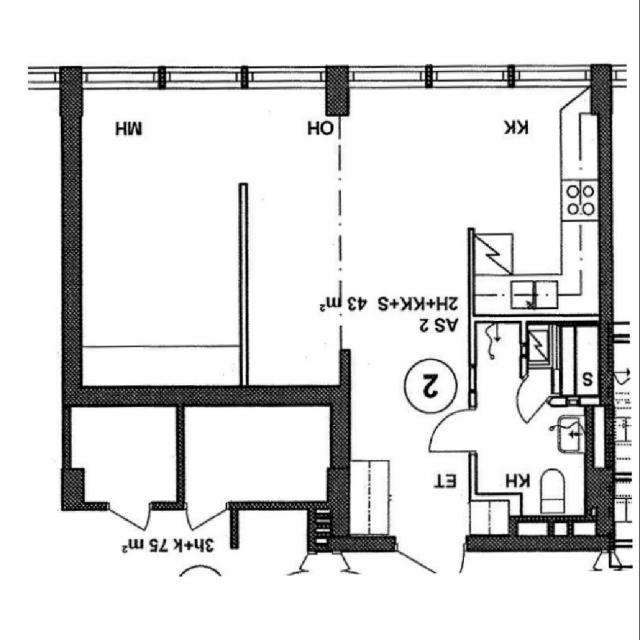door: (397, 534, 463, 620), (505, 374, 551, 422), (429, 409, 476, 451)
